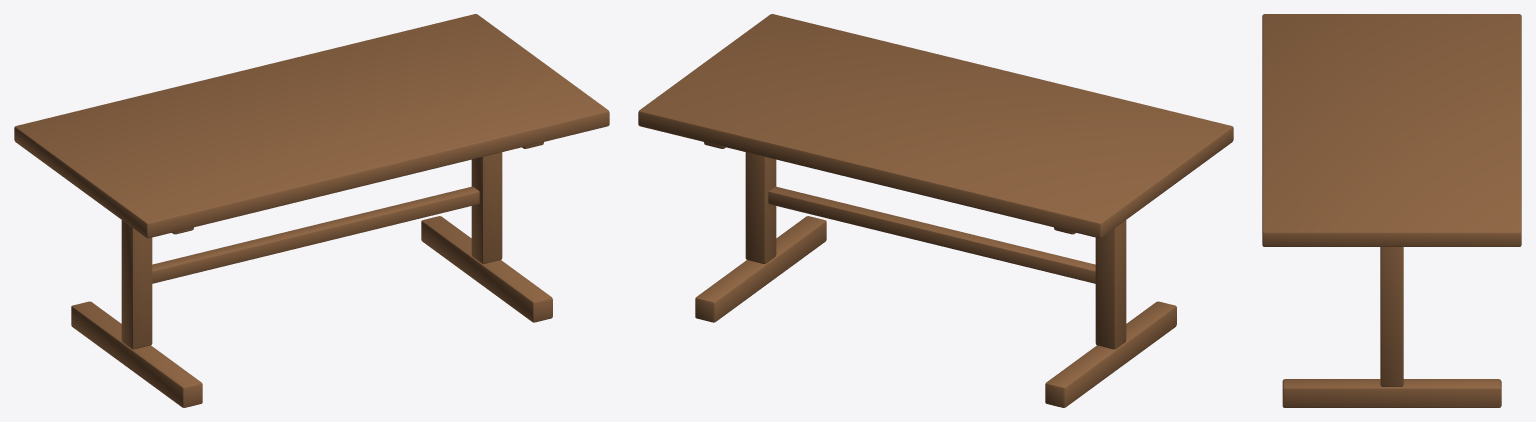
The model's file is table_wood.glb.
The picture shows the model from 3 angles, left to right: view 1: azimuth 30°, elevation 25°; view 2: azimuth 150°, elevation 25°; view 3: azimuth 270°, elevation 25°; orthographic projection. The views are drawn at different scales.
Visible parts, largest first — view 1: box, box.007, box.004, box.001, box.002, box.005; view 2: box, box.007, box.004, box.001, box.002, box.005; view 3: box, box.004, box.005.
Boxes of the visible parts, bbox=[...] form: box: bbox=[14, 14, 609, 238]; box.007: bbox=[152, 186, 479, 283]; box.004: bbox=[421, 216, 552, 322]; box.001: bbox=[71, 301, 202, 407]; box.002: bbox=[121, 220, 152, 349]; box.005: bbox=[471, 152, 502, 263]; box: bbox=[638, 14, 1233, 238]; box.007: bbox=[768, 186, 1095, 283]; box.004: bbox=[695, 216, 826, 322]; box.001: bbox=[1045, 301, 1176, 407]; box.002: bbox=[1095, 220, 1126, 349]; box.005: bbox=[745, 152, 776, 263]; box: bbox=[1262, 14, 1521, 246]; box.004: bbox=[1282, 379, 1501, 407]; box.005: bbox=[1380, 247, 1403, 386].
Size of the model in its own units: 180 by 76 by 90.01.
